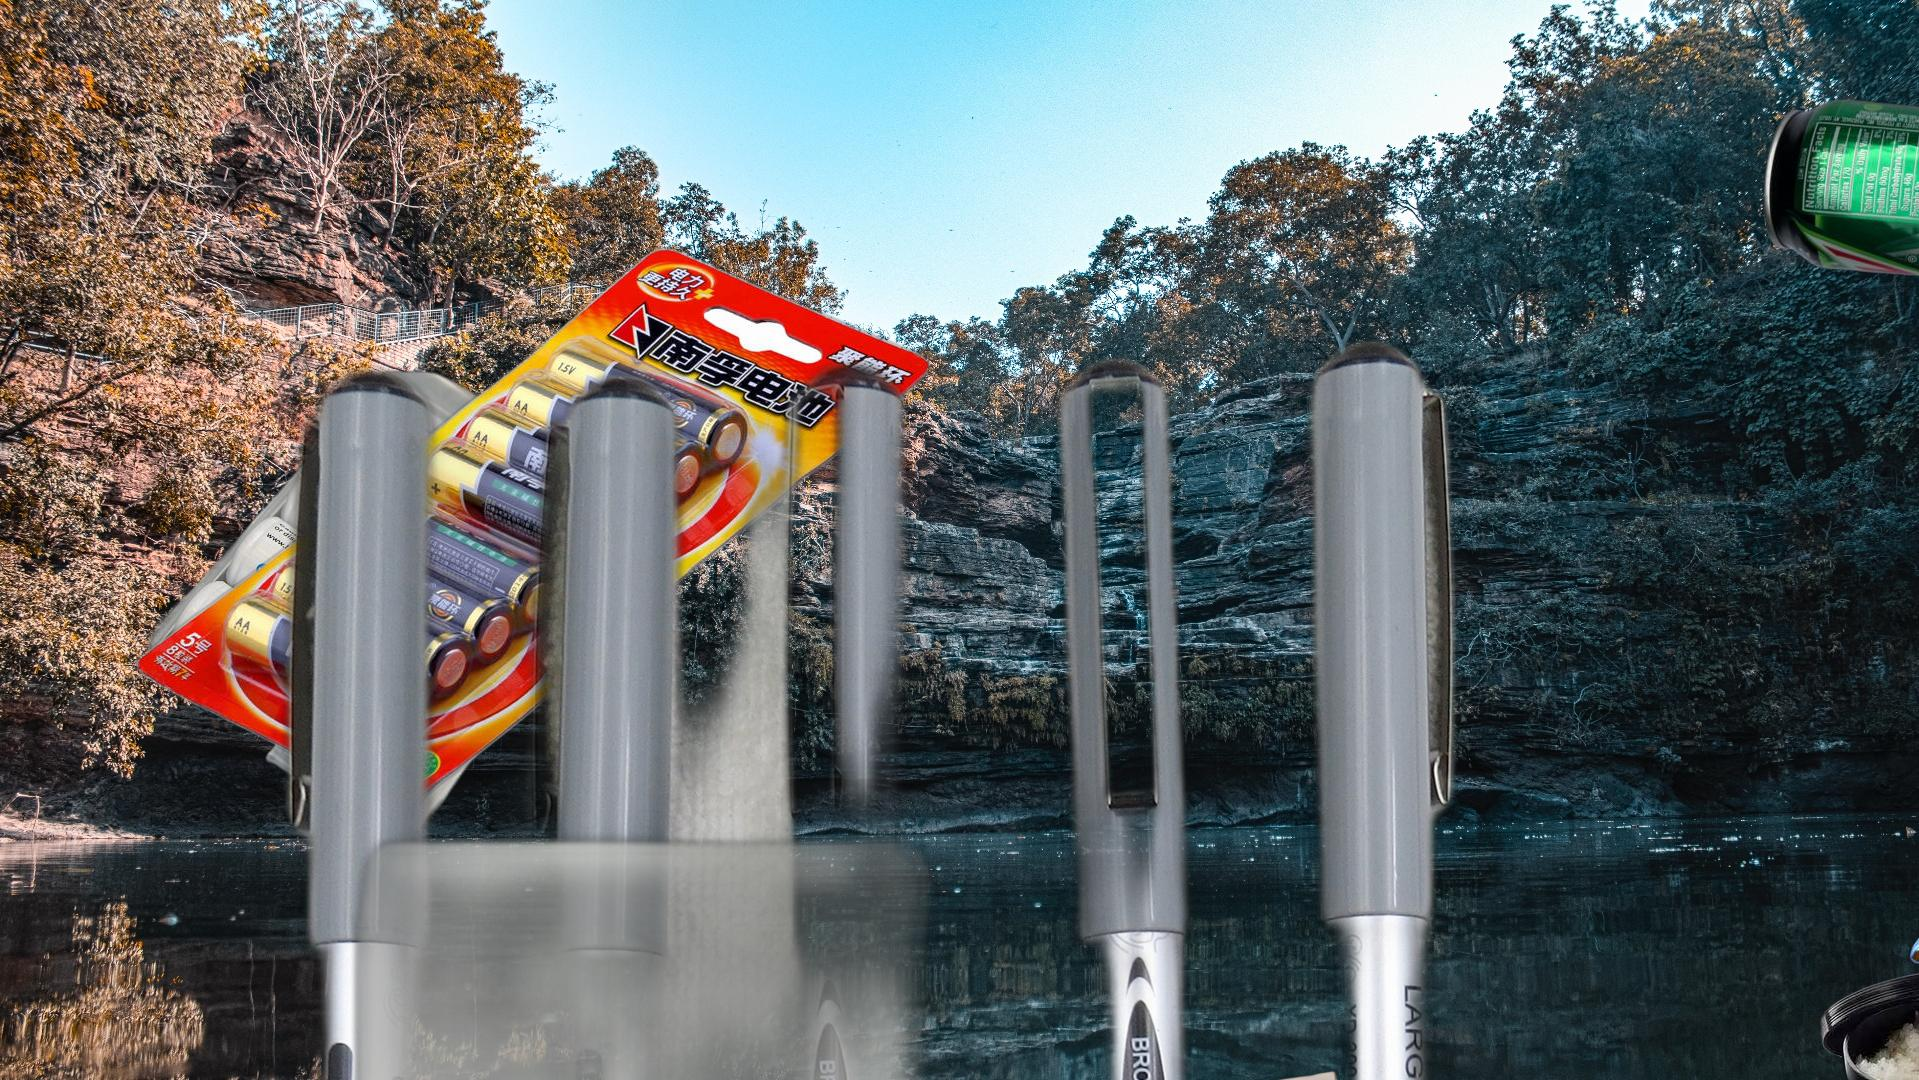battery: (132, 241, 932, 818), (138, 367, 652, 841)
biological: (1818, 836, 1919, 1080)
metal-cans: (1758, 95, 1919, 294)
paper: (1062, 1068, 1368, 1080)
penholder: (272, 323, 1470, 1080)
plastic-bag: (1907, 796, 1919, 1004)
trashbox-cardboard: (32, 663, 1292, 1080)
